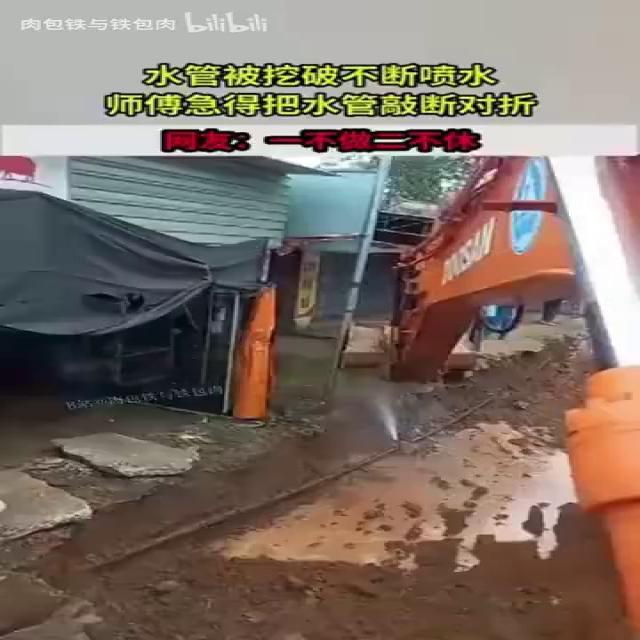leak: (356, 383, 406, 444)
